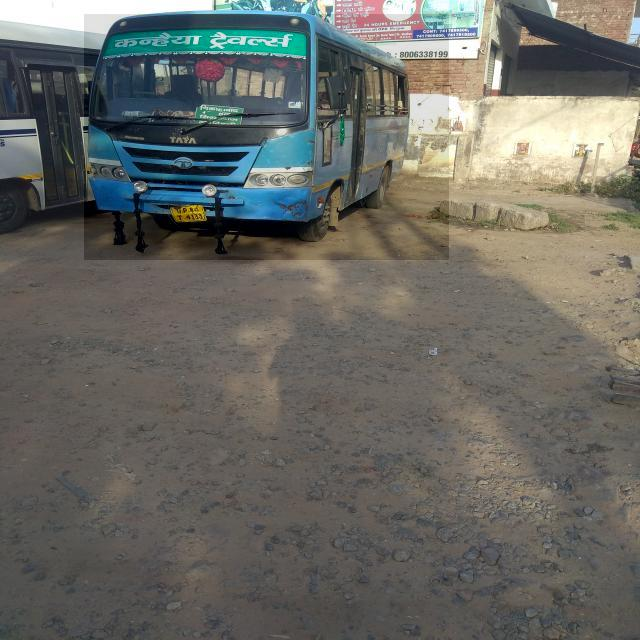Bus: (84, 14, 449, 260)
